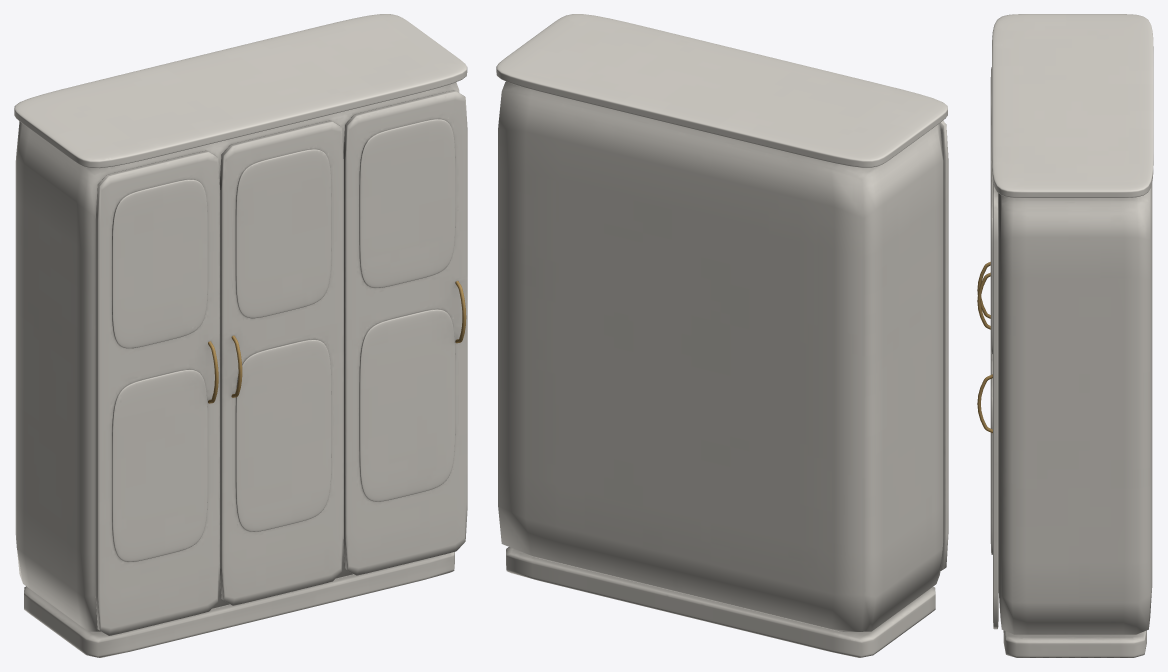
Rendered from white-three-door.glb.
3 renders of one model, left to right at view 1: azimuth 30°, elevation 25°; view 2: azimuth 150°, elevation 25°; view 3: azimuth 270°, elevation 25°, orthographic. The views are drawn at different scales.
Visible parts, largest first — view 1: paint_primary_wardrobe, brass_handle; view 2: paint_primary_wardrobe; view 3: paint_primary_wardrobe, brass_handle.
Part boxes in pixels (bbox=[...]): paint_primary_wardrobe: bbox=[14, 14, 467, 657]; brass_handle: bbox=[208, 281, 466, 403]; paint_primary_wardrobe: bbox=[496, 14, 948, 657]; paint_primary_wardrobe: bbox=[990, 14, 1153, 657]; brass_handle: bbox=[977, 262, 992, 433].
Size of the model in its own units: 1.64 by 2.04 by 0.6866.
2 materials, 2 textured.
